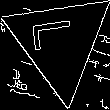L_E: (34, 23, 85, 61)
